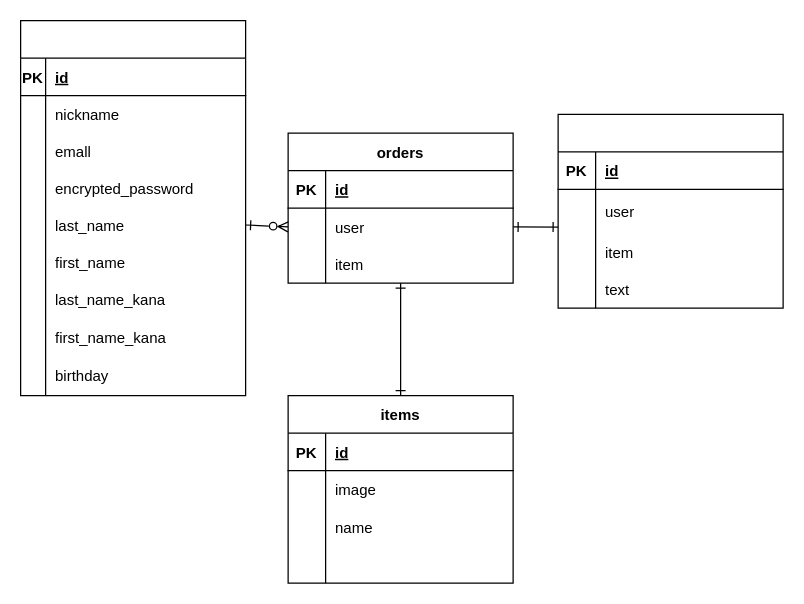
Image size: 804x604. Some labels were removed from this diagram. Each missing label, with the box of its shape:
comments: (557, 113, 783, 308)
users: (19, 19, 246, 396)
